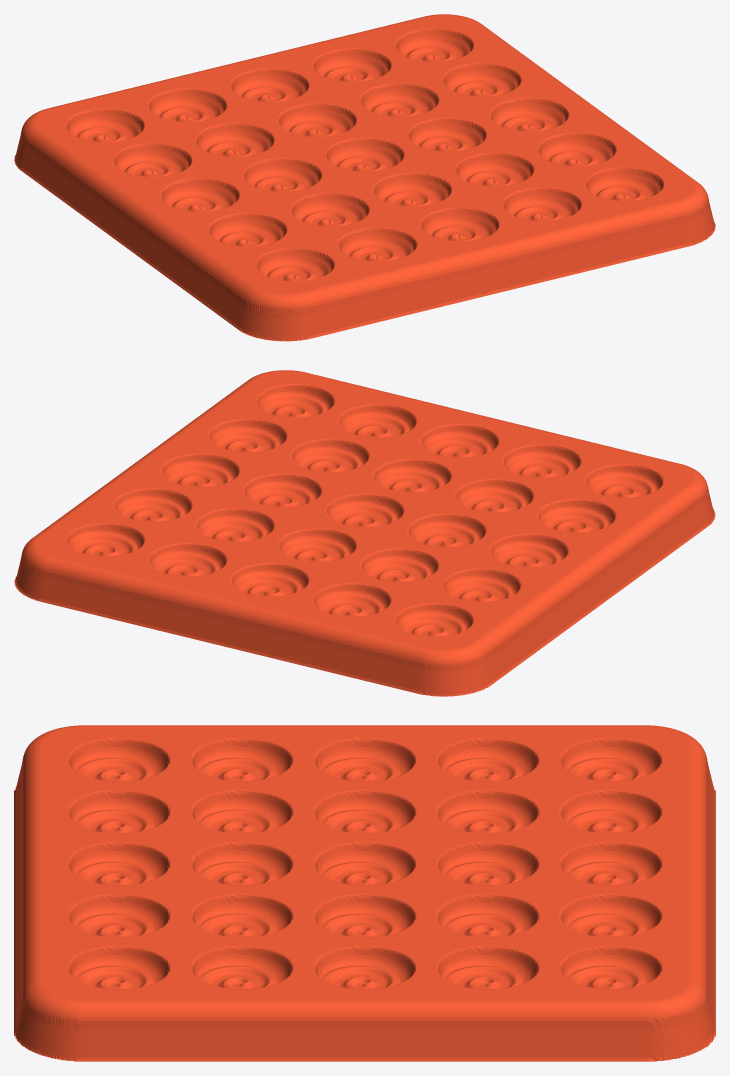
Rendered from mold.glb.
3 renders of one model, top to bottom at view 1: azimuth 30°, elevation 25°; view 2: azimuth 150°, elevation 25°; view 3: azimuth 270°, elevation 25°, orthographic. The views are drawn at different scales.
Visible parts, largest first — view 1: geometry_0; view 2: geometry_0; view 3: geometry_0.
Boxes of the visible parts, x1,y1,x2,y2 form: geometry_0: (14,14,715,341); geometry_0: (14,370,715,696); geometry_0: (14,725,715,1061).
Size of the model in its own units: 0.0902 by 0.00704 by 0.0902.
